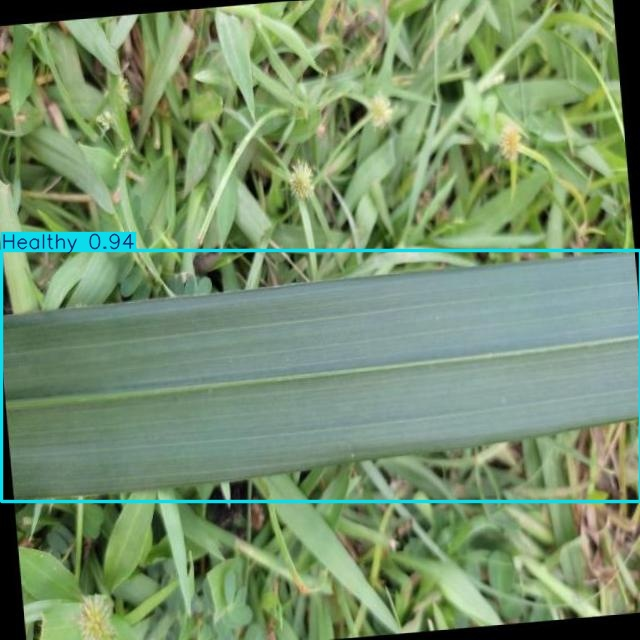Healthy: (2, 250, 640, 501)
